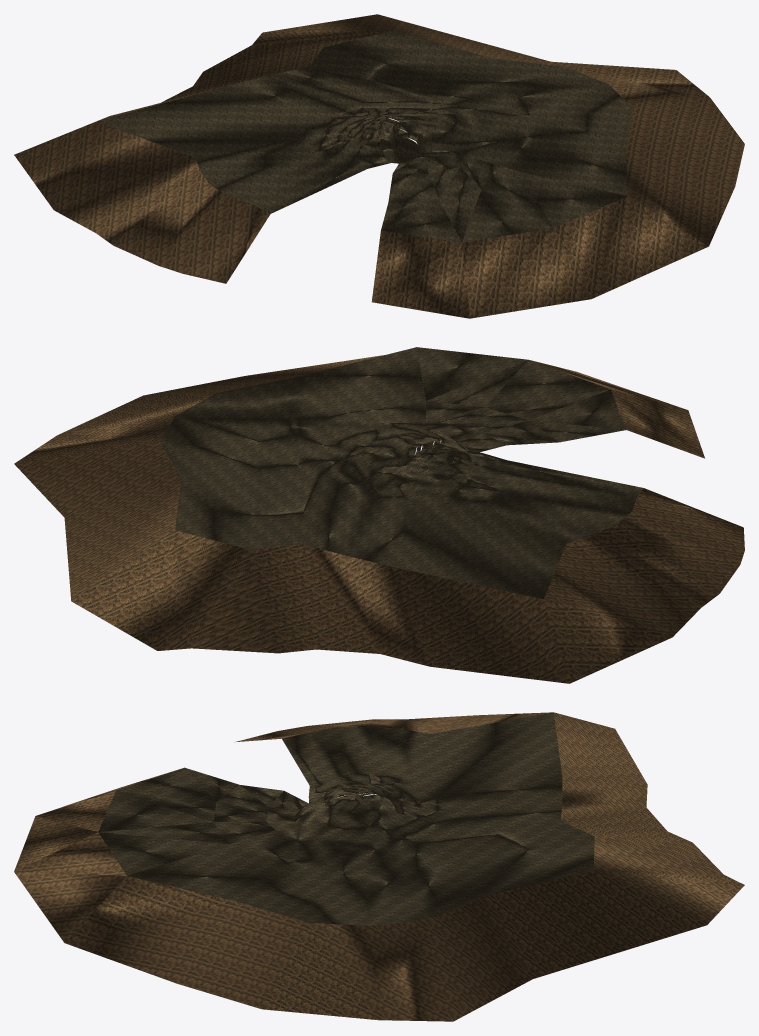
3 renders of one model, top to bottom at view 1: azimuth 30°, elevation 25°; view 2: azimuth 150°, elevation 25°; view 3: azimuth 270°, elevation 25°, orthographic. The views are drawn at different scales.
Parts seen in each view (by area): view 1: mesh0, mesh1; view 2: mesh0, mesh1; view 3: mesh0, mesh1.
Part boxes in pixels (x1=…): mesh0: x1=14, y1=14, x2=744, y2=318; mesh1: x1=98, y1=30, x2=632, y2=242; mesh0: x1=14, y1=355, x2=744, y2=683; mesh1: x1=160, y1=347, x2=643, y2=599; mesh0: x1=14, y1=712, x2=744, y2=1021; mesh1: x1=98, y1=712, x2=594, y2=925.
Size of the model in its own units: 1824 by 177 by 1838.
